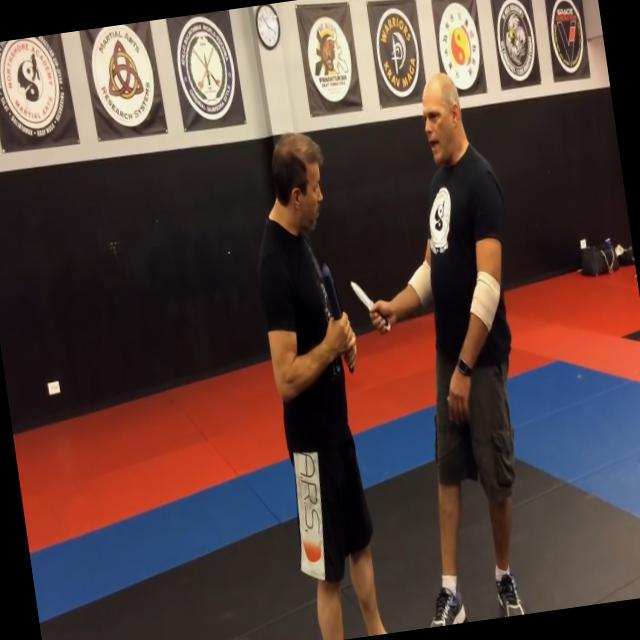knife: (347, 272, 394, 340)
